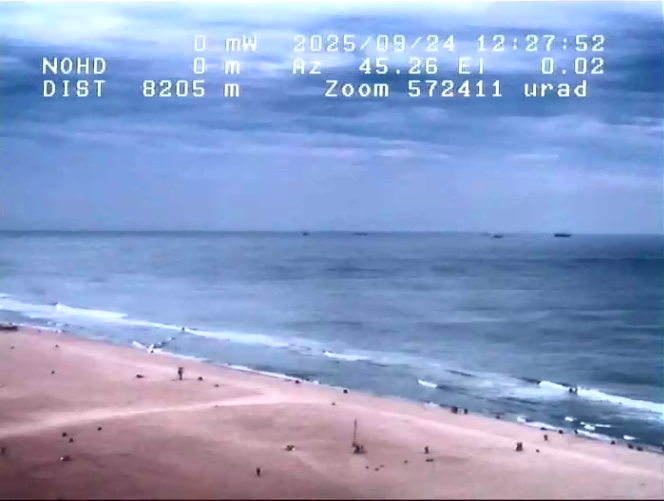TANKER: (547, 226, 577, 240)
